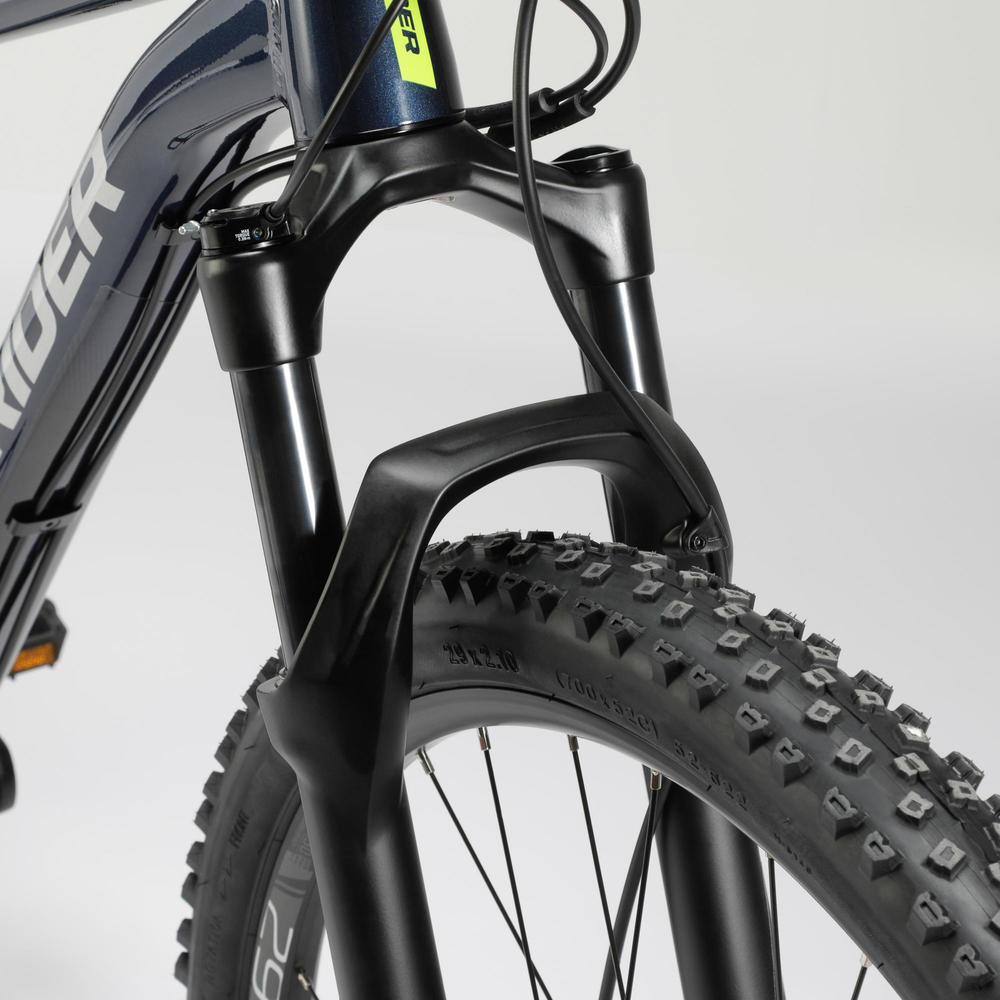MountainBike: (0, 0, 999, 995)
